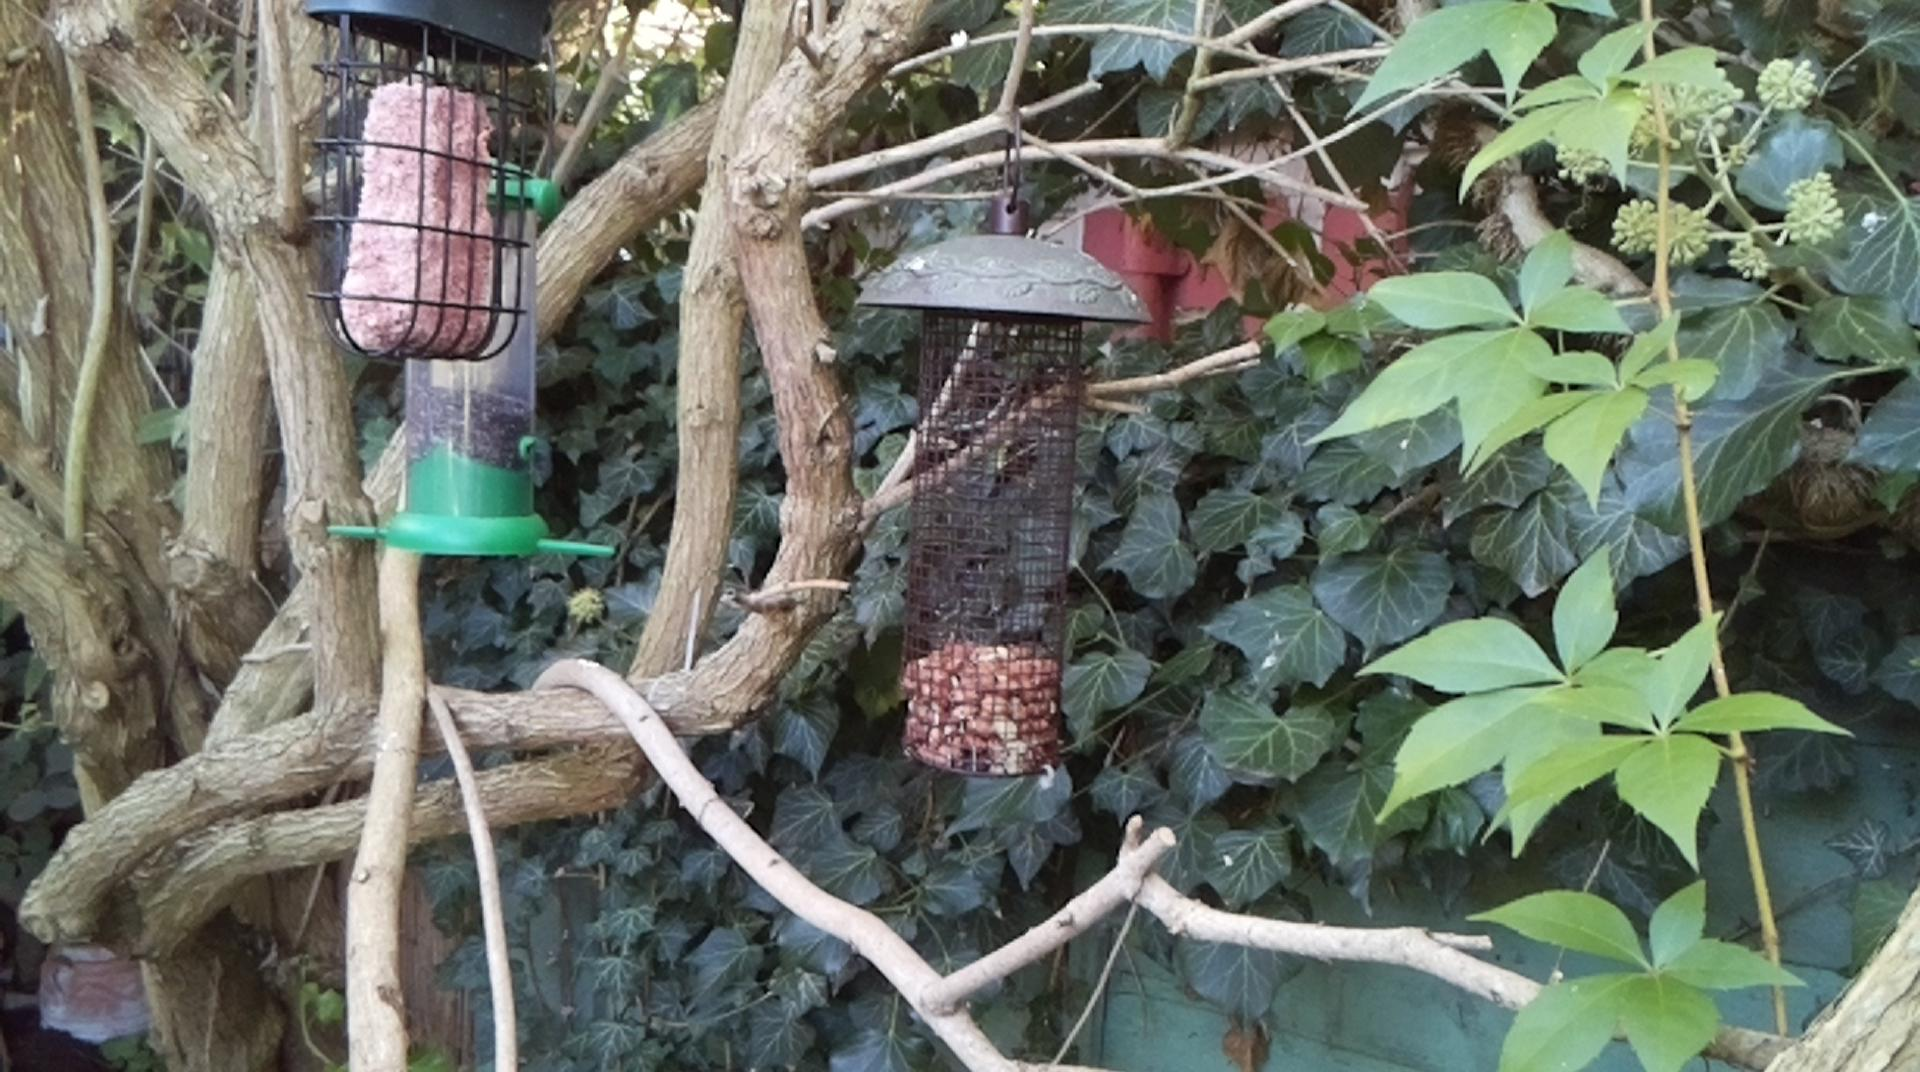unclassified: (1712, 427, 1919, 749)
